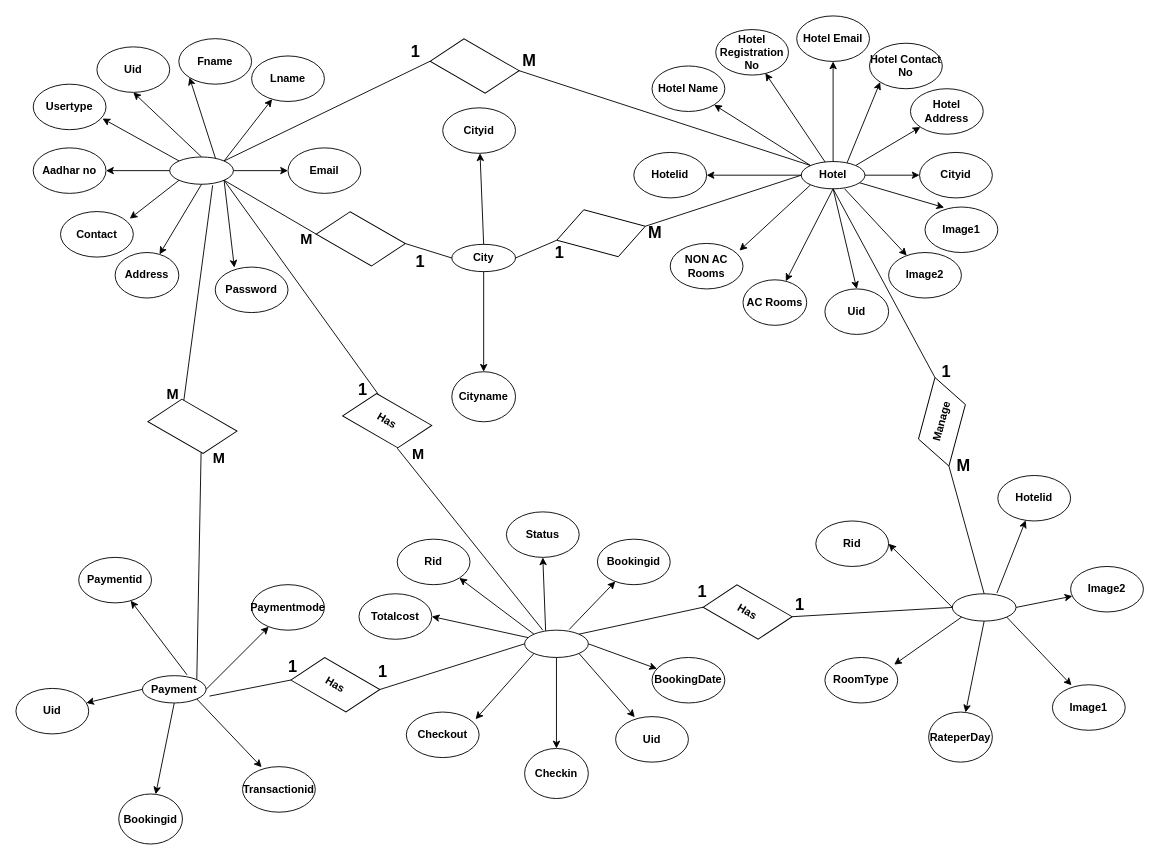
Image size: 1159x860. Some labels were removed from this diagram. Each missing label, with the centre of its shape:
Book: the point at 474,65
Booking: the point at 556,643
Pay: the point at 192,426
Room: the point at 983,607
Search: the point at 360,238
Shows: the point at 600,233
User: the point at 201,170
